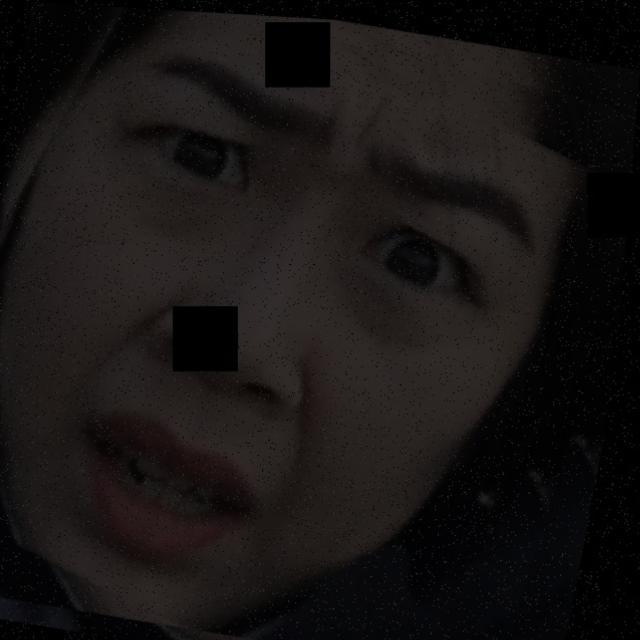Surprised: (0, 50, 568, 630)
